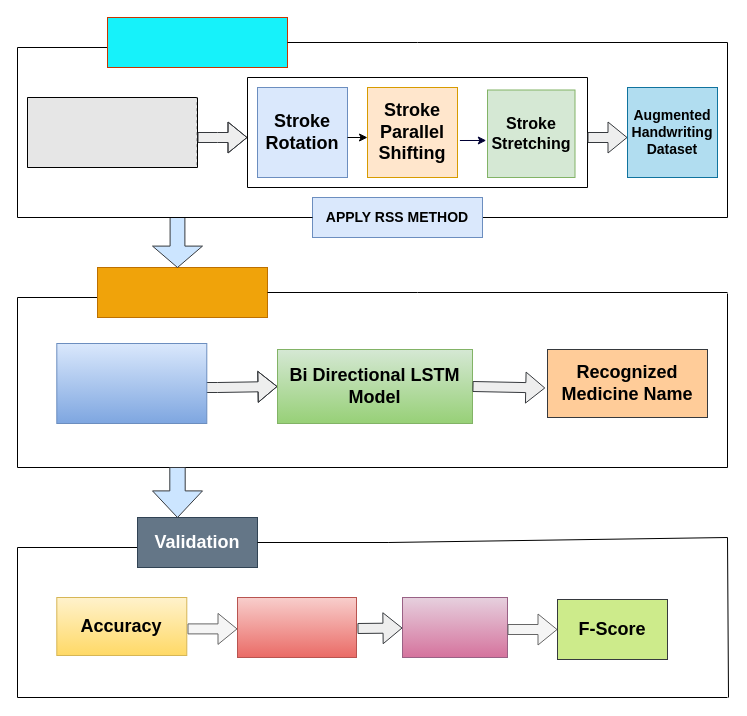
The diagram is 747 pixels wide and 716 high, and some of its shapes have lost their labels. Grey dashed boxes stand in for pictures. Here are the shapes that lost their labels. From the top down, the centre of each, then its label:
At (x=197, y=42): "Data Augmentation".
At (x=182, y=292): "Medicine Name Recognition".
At (x=131, y=383): "Augmented Dataset".
At (x=296, y=627): "Precision".
At (x=455, y=627): "Recall".
